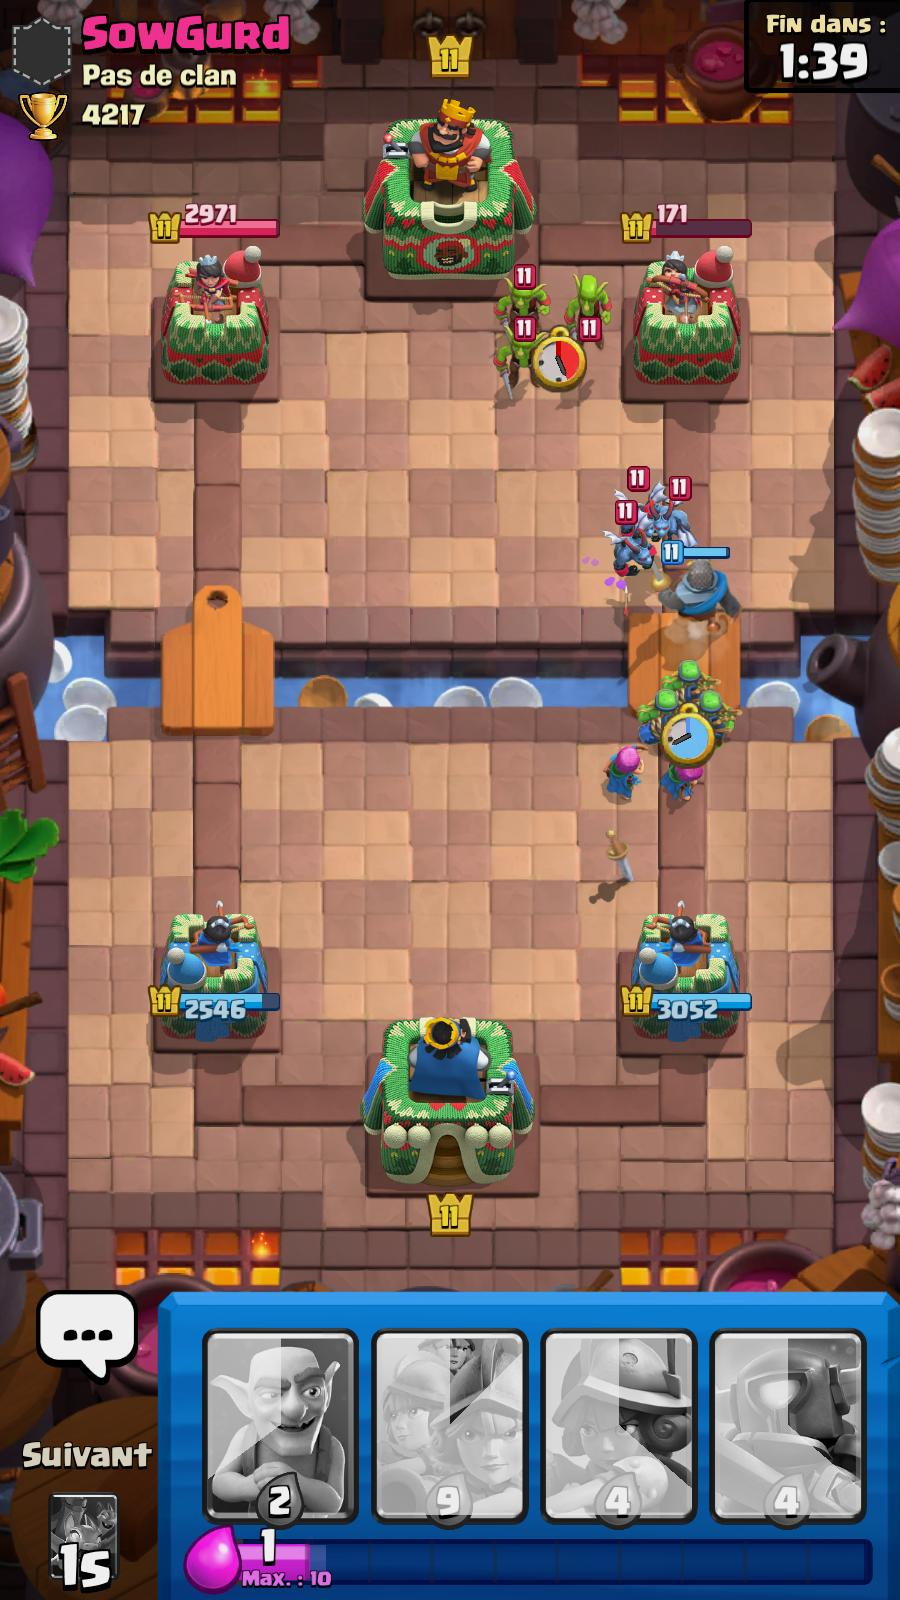archere: (663, 748, 704, 804), (603, 745, 641, 797)
gargouille: (649, 480, 702, 547), (604, 499, 648, 579), (627, 464, 669, 524)
gobelin: (498, 268, 548, 327), (507, 323, 549, 388), (573, 273, 613, 341)
gobelin_lances: (692, 693, 734, 752), (640, 685, 680, 737), (663, 659, 711, 698)
